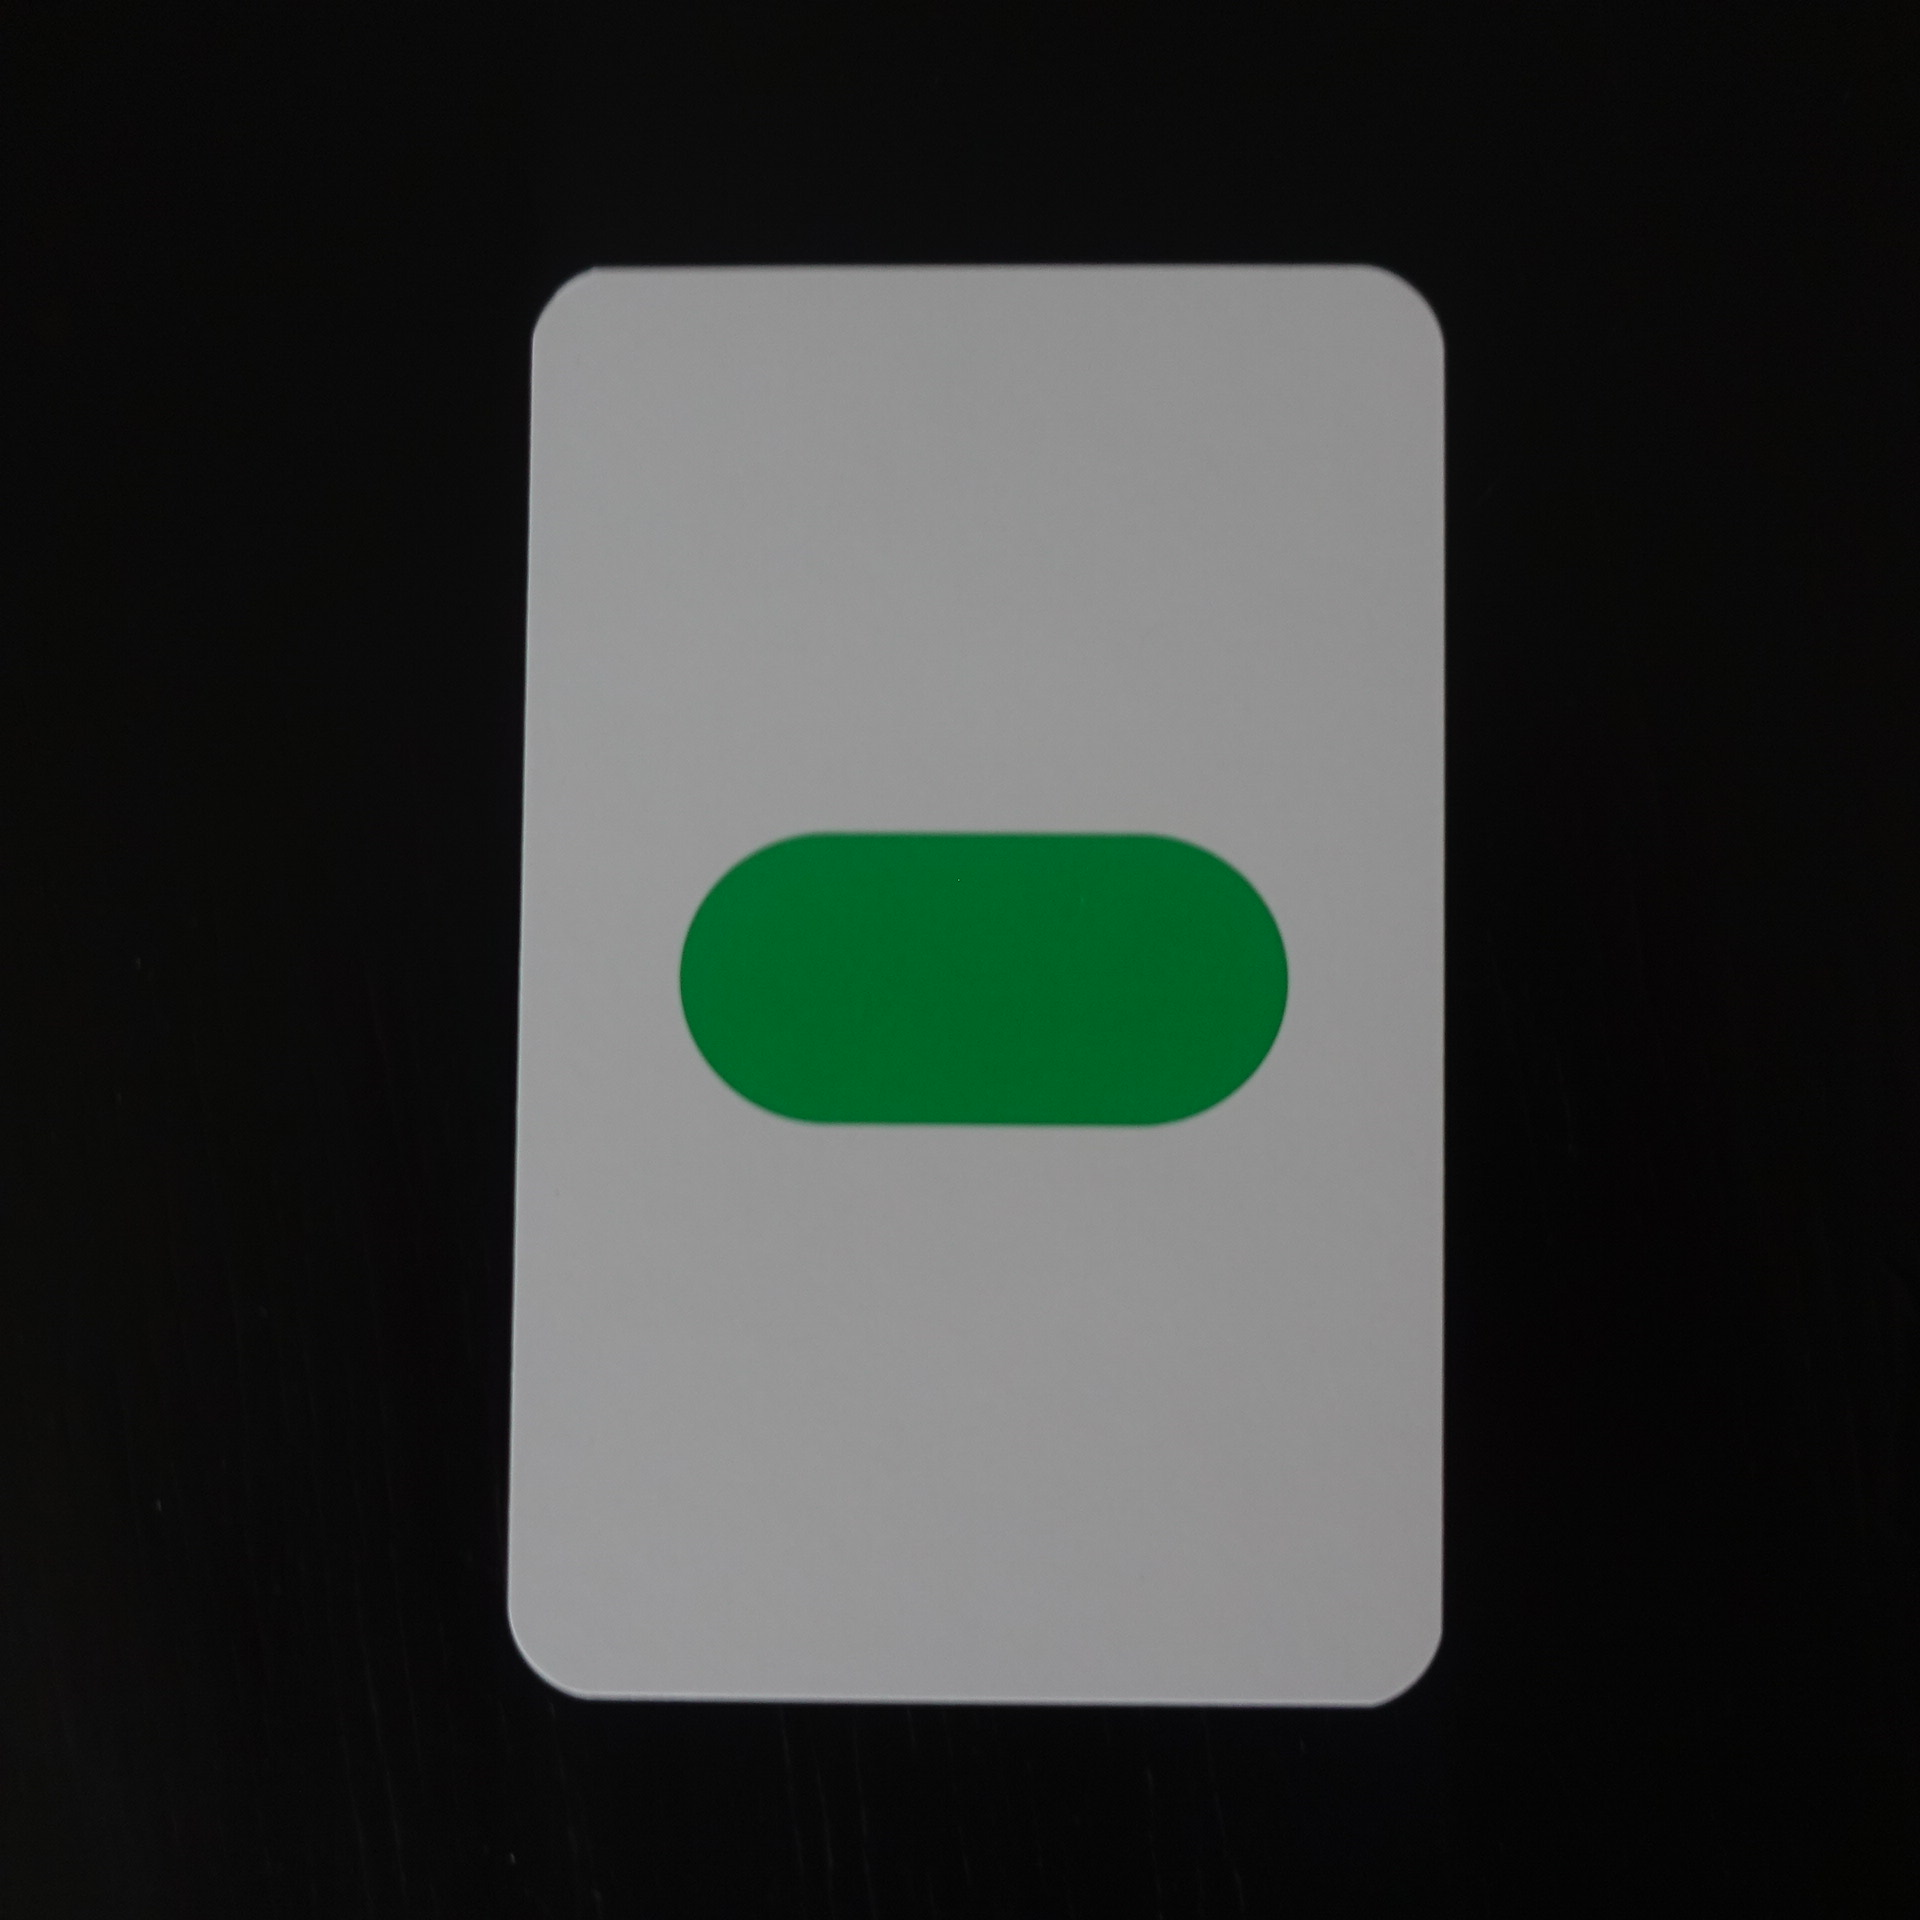c-2-f-d-r: (476, 236, 1472, 1727)
